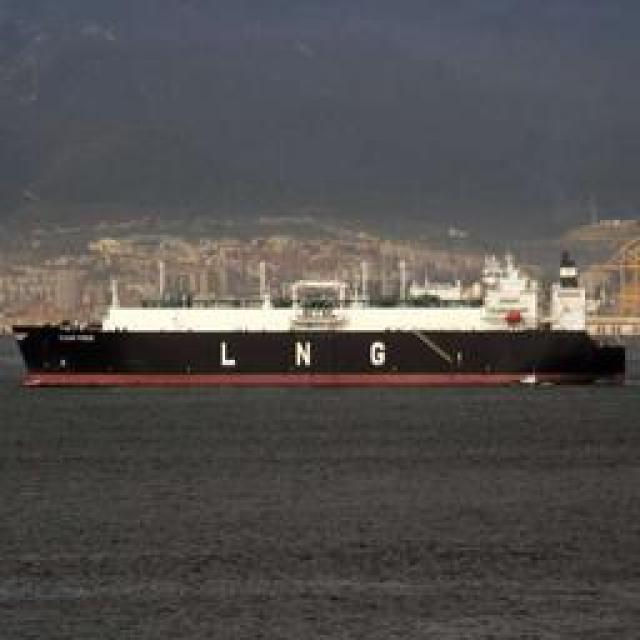ship2: (9, 248, 628, 388)
